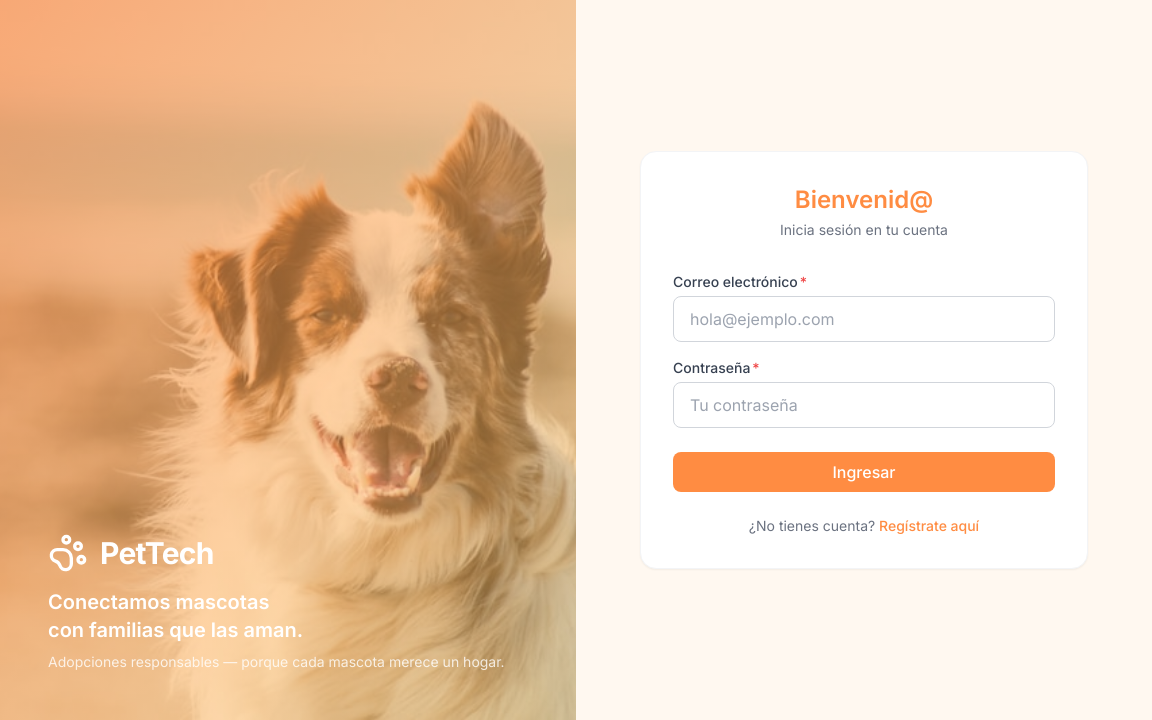
Test: LoginPage — validación del campo correo › shows error when email has no @
Type "notanemail" into the field labelled "Correo electrónico*" at (864, 319), box [673,296,1055,342]
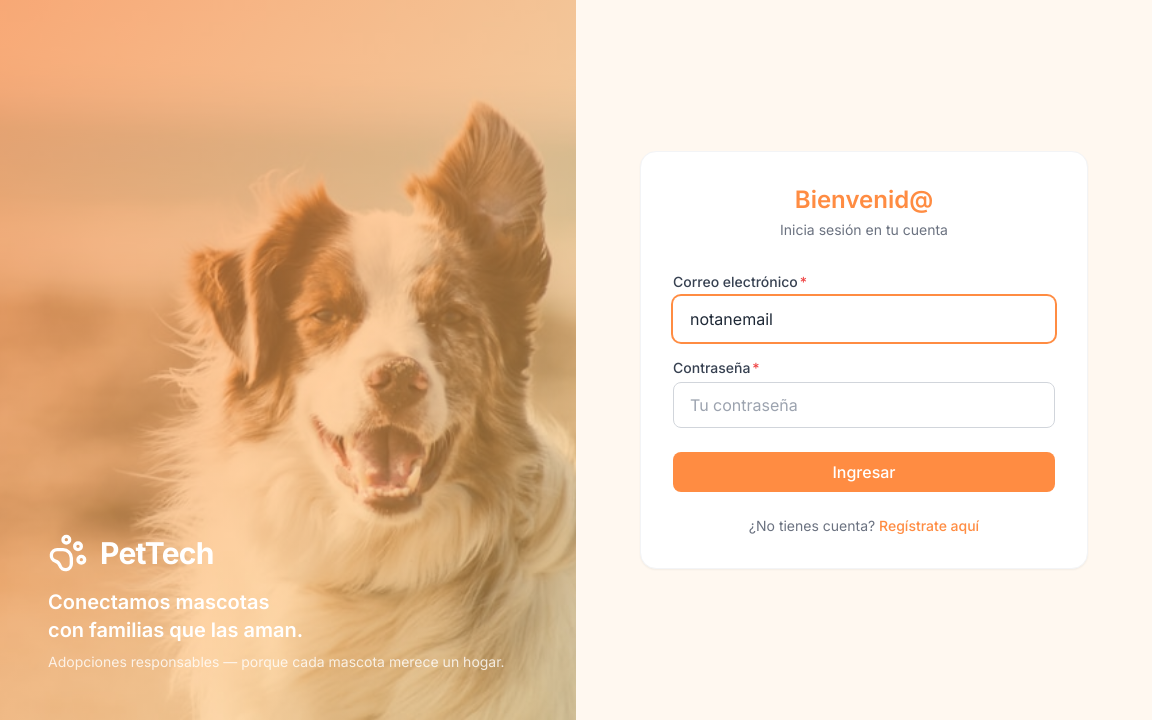
Press Tab
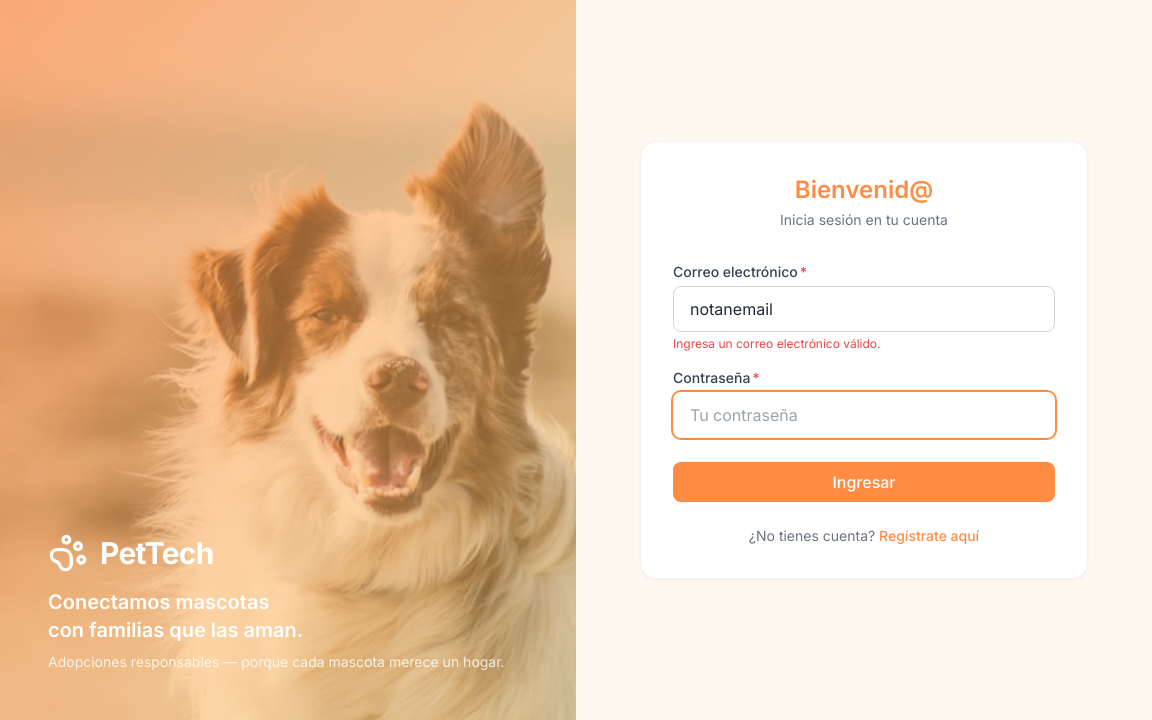
Result: the text "Ingresa un correo electrónico válido." is shown at [673,336,880,351]
